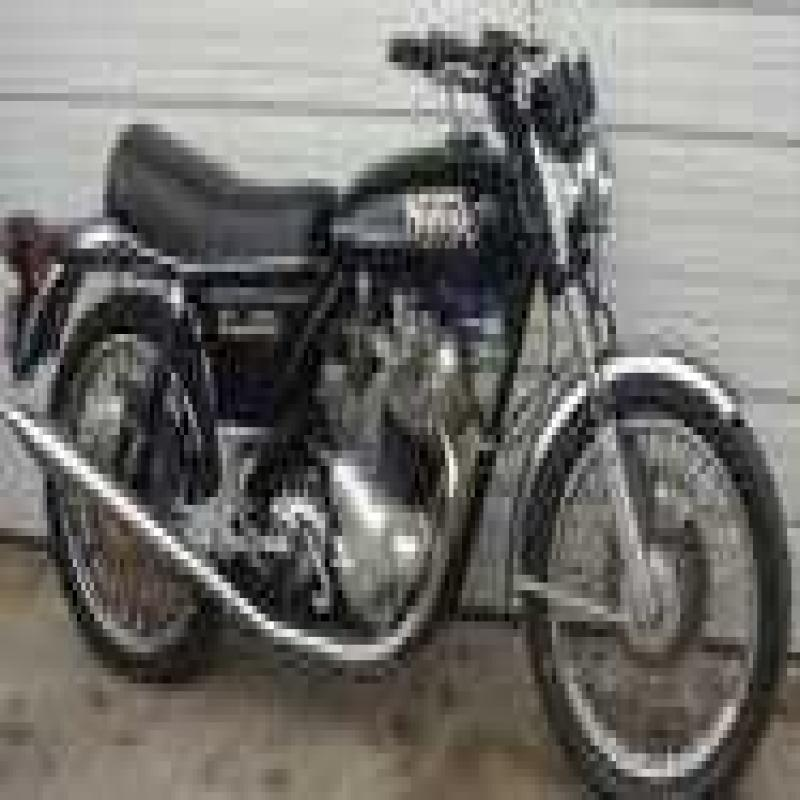bike: (25, 8, 800, 786)
